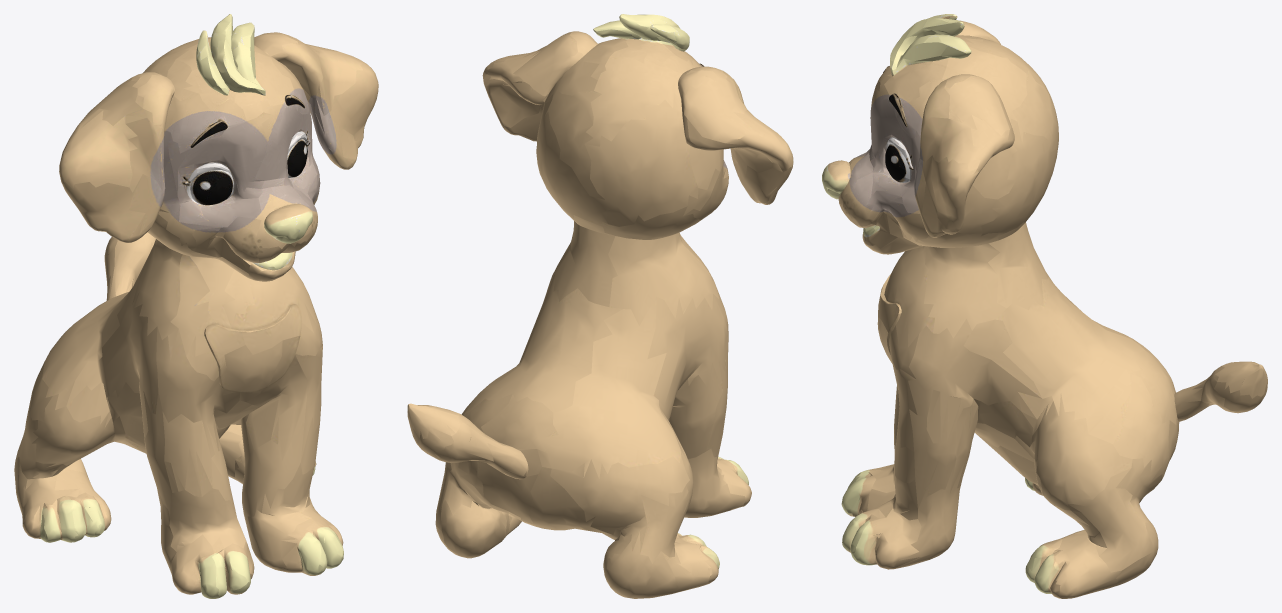
Rendered from sheru.a799e0d5.glb.
3 views of the same model, side by side, from view 1: azimuth 30°, elevation 25°; view 2: azimuth 150°, elevation 25°; view 3: azimuth 270°, elevation 25° (orthographic). The views are drawn at different scales.
Visible parts, largest first — view 1: body, head, earR, legFR, legFL, legBR, earL, tail, legBL; view 2: body, head, legBR, earR, legBL, tail, earL, legFR; view 3: body, head, earL, legBL, legFL, tail, legFR.
Part boxes in pixels (x1,y1,x2,y2): body: [29, 247, 322, 496]; head: [132, 14, 319, 305]; earR: [59, 76, 169, 242]; legFR: [66, 415, 254, 598]; legFL: [217, 417, 343, 575]; legBR: [14, 395, 146, 542]; earL: [289, 35, 378, 193]; tail: [104, 232, 155, 300]; legBL: [219, 419, 316, 483]; body: [456, 244, 728, 505]; head: [533, 14, 728, 302]; legBR: [530, 473, 719, 598]; earR: [680, 68, 793, 218]; legBL: [435, 462, 547, 558]; tail: [407, 403, 527, 479]; earL: [482, 32, 571, 172]; legFR: [671, 412, 751, 517]; body: [877, 249, 1182, 491]; head: [822, 14, 1058, 307]; earL: [901, 83, 1018, 243]; legBL: [1024, 440, 1177, 598]; legFL: [842, 431, 1034, 579]; tail: [1176, 361, 1267, 421]; legFR: [841, 397, 1030, 516].
Size of the model in its own units: 1.2 by 1.9 by 1.48.
1 material, 1 textured.
